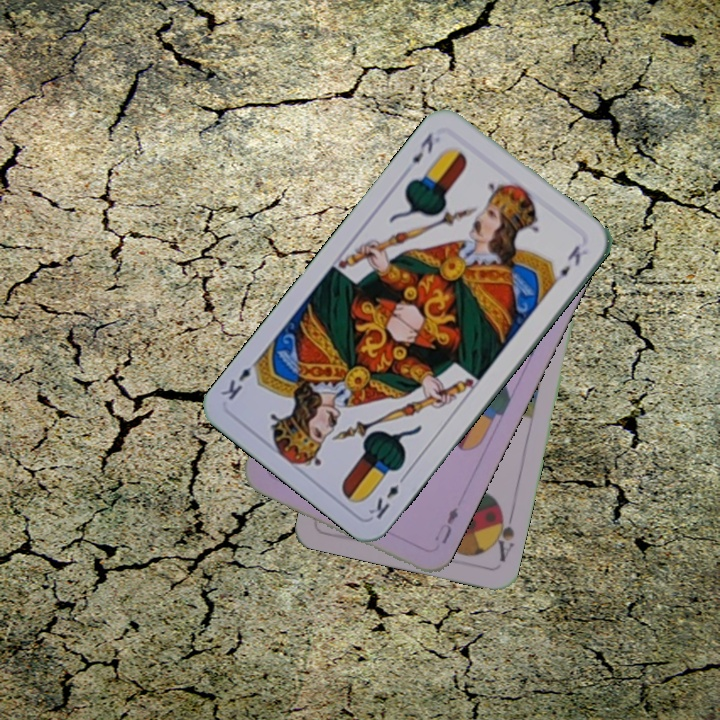EK: (364, 470, 409, 522), (407, 128, 436, 166)
EU: (430, 503, 461, 547)
SA: (487, 505, 517, 564)
